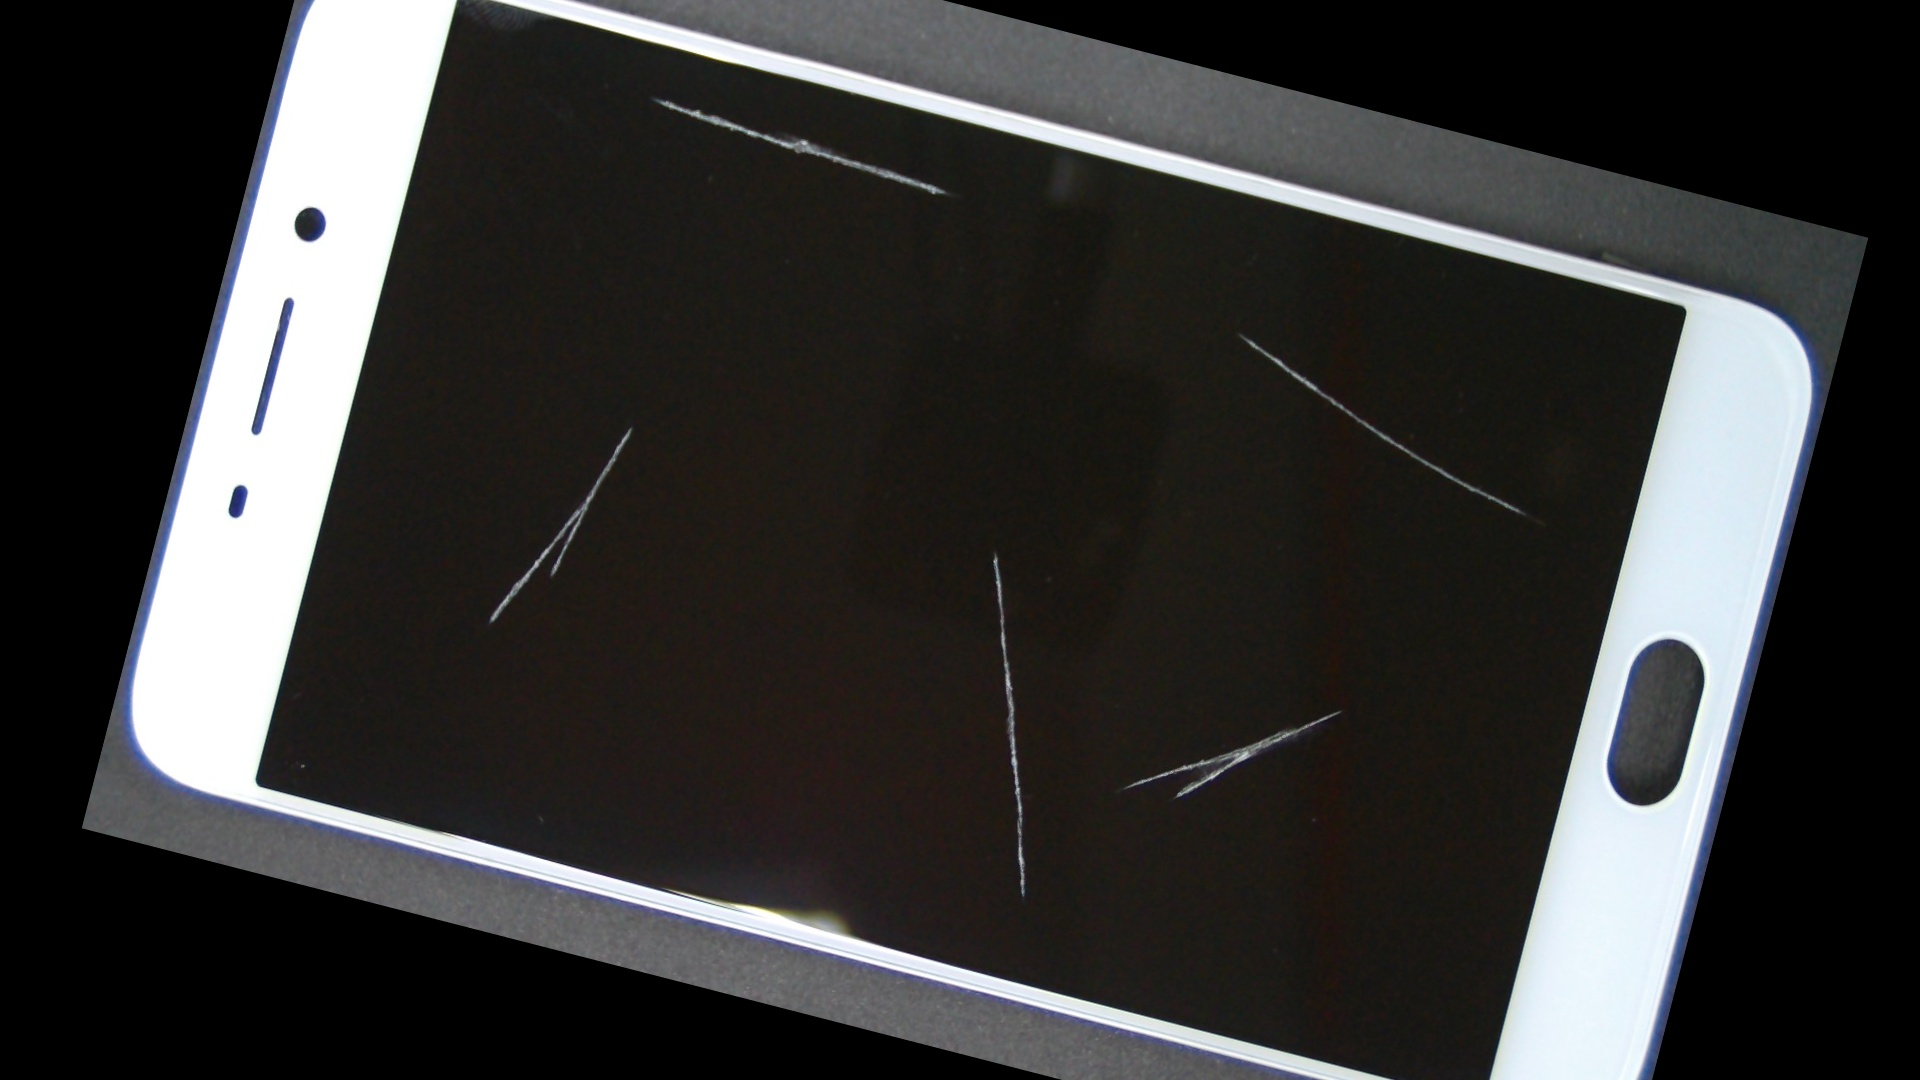oil: (692, 277, 1795, 1080), (534, 196, 1453, 906), (724, 88, 1751, 576), (363, 133, 902, 717), (452, 0, 853, 220)
